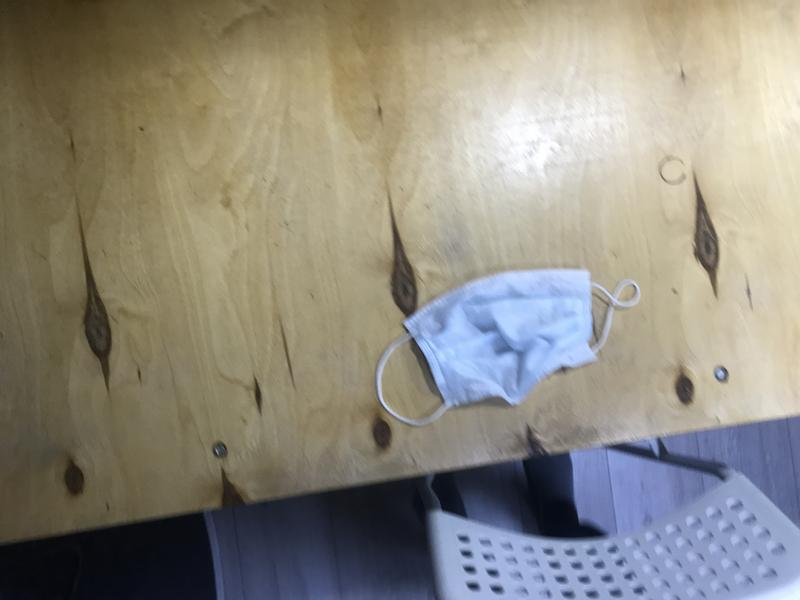medical_mask: (373, 271, 641, 427)
